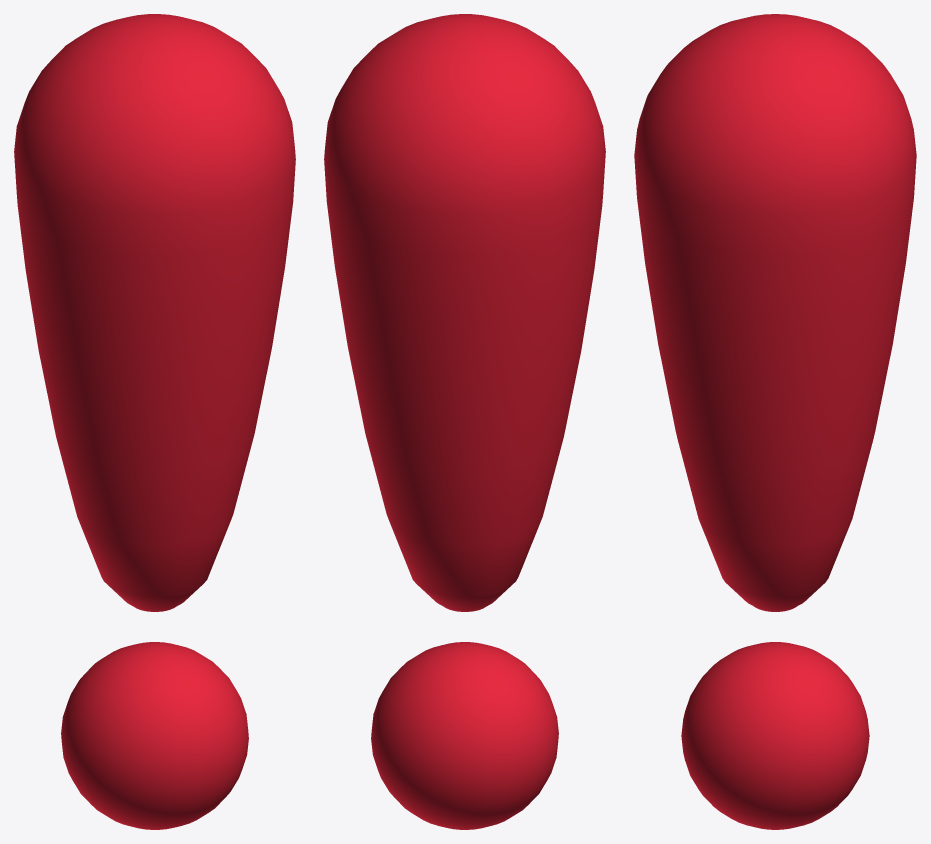
File: Exclamation Mark.fbx
The picture shows the model from 3 angles, left to right: view 1: azimuth 30°, elevation 25°; view 2: azimuth 150°, elevation 25°; view 3: azimuth 270°, elevation 25°; orthographic projection.
Visible parts, largest first — view 1: Sphere.001; view 2: Sphere.001; view 3: Sphere.001.
Boxes of the visible parts, <box> form: Sphere.001: <box>14,14,295,829</box>; Sphere.001: <box>324,14,605,829</box>; Sphere.001: <box>634,14,916,829</box>.
Bounding box in the file's own units: 200 × 621 × 200.
